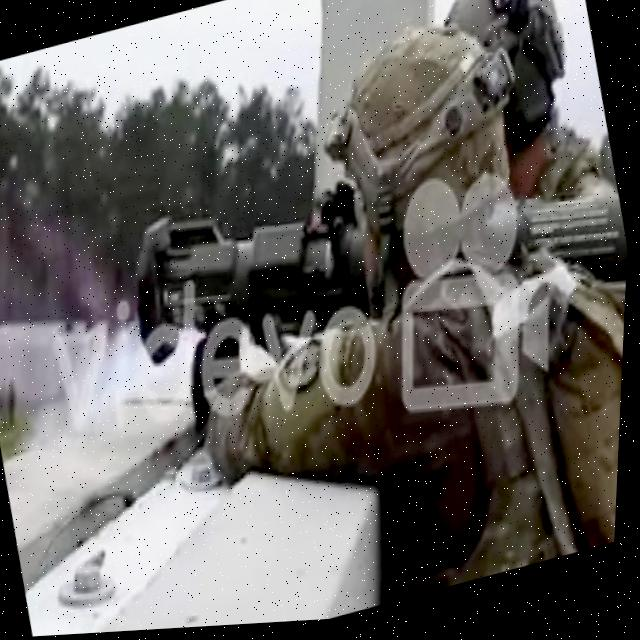rocket: (102, 98, 636, 456)
